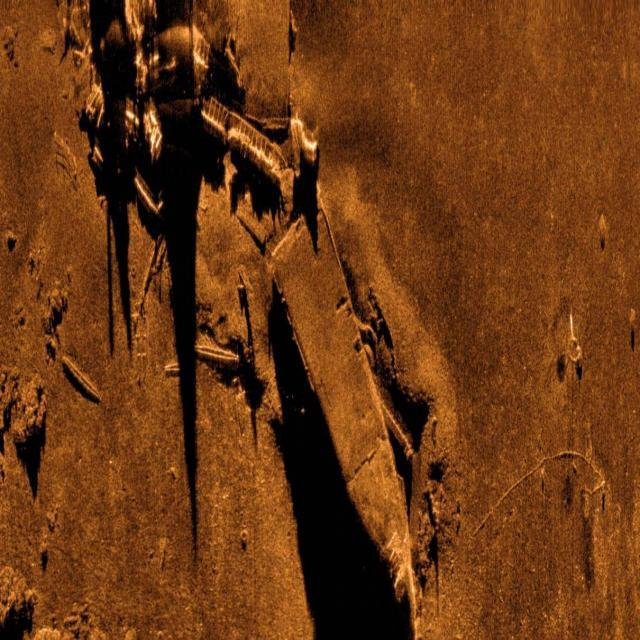shipwreck: (214, 99, 426, 616)
